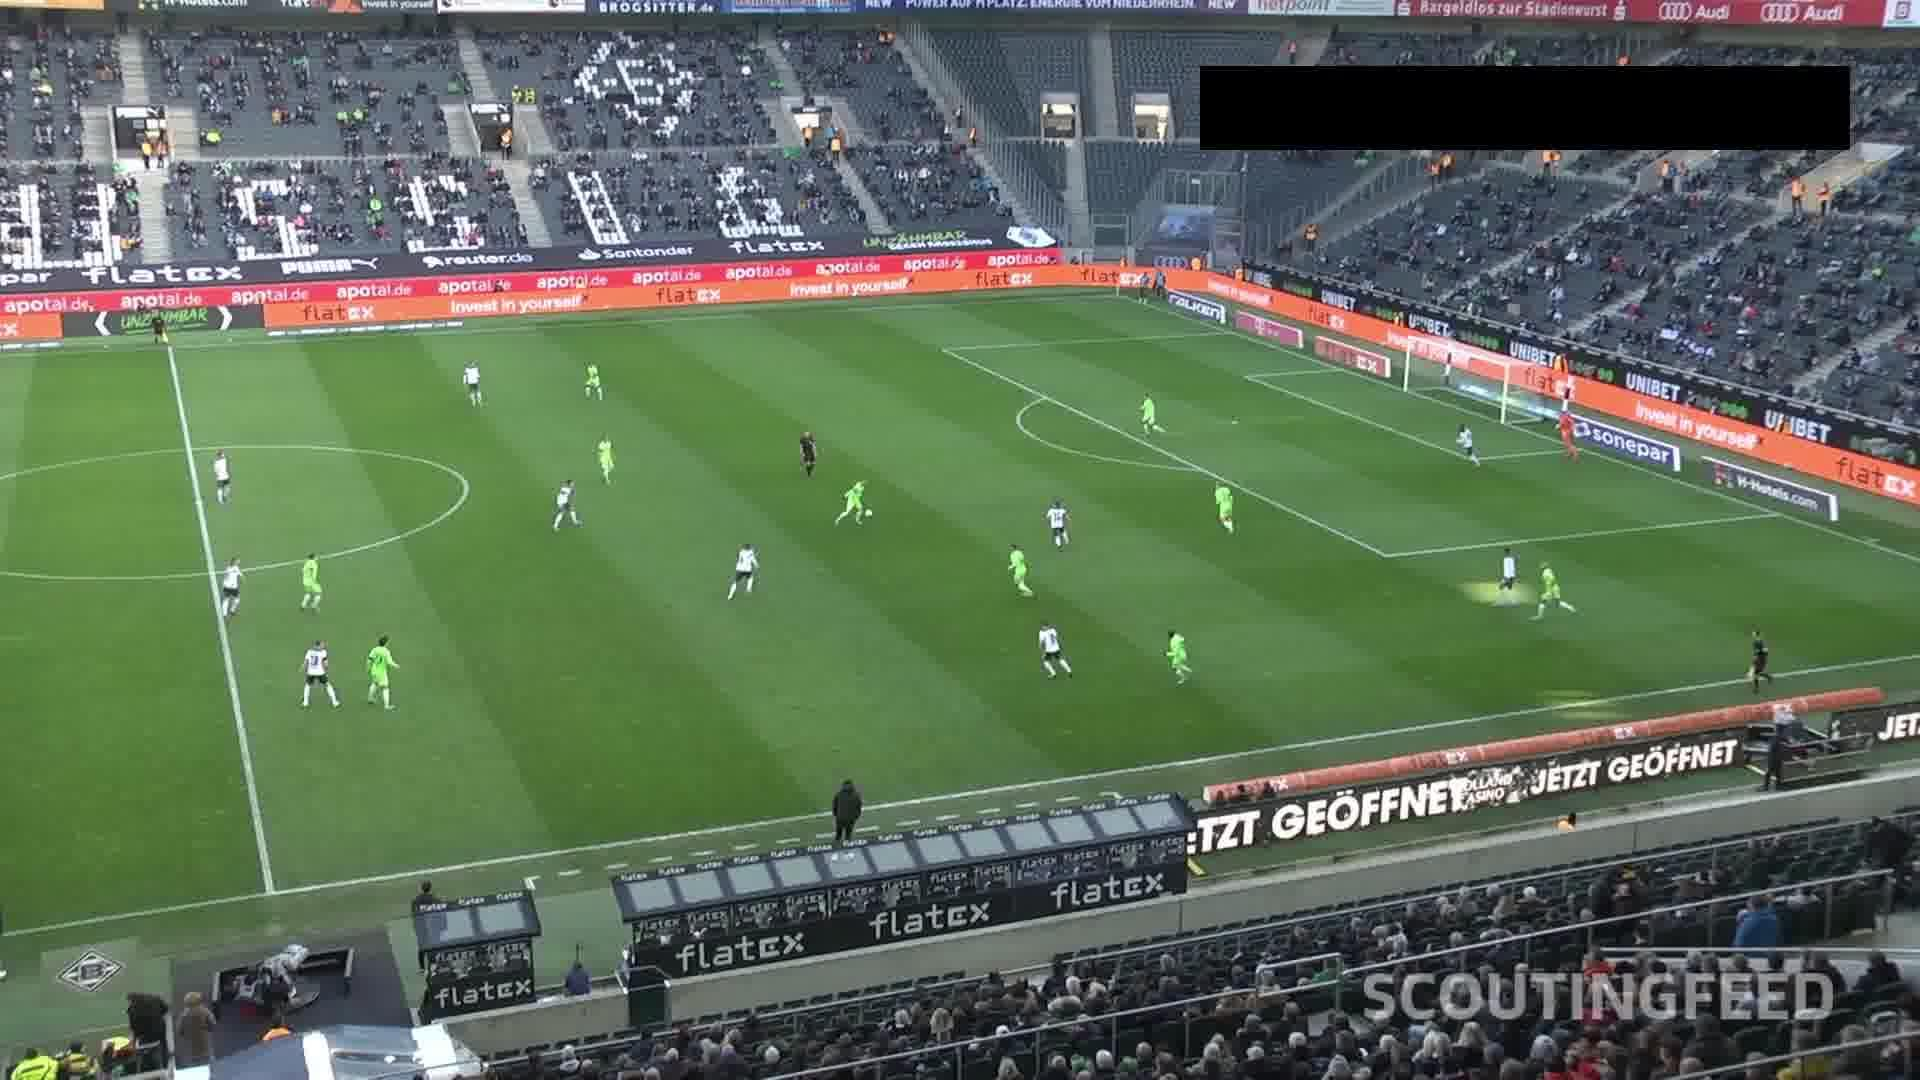football: (862, 508, 873, 520)
